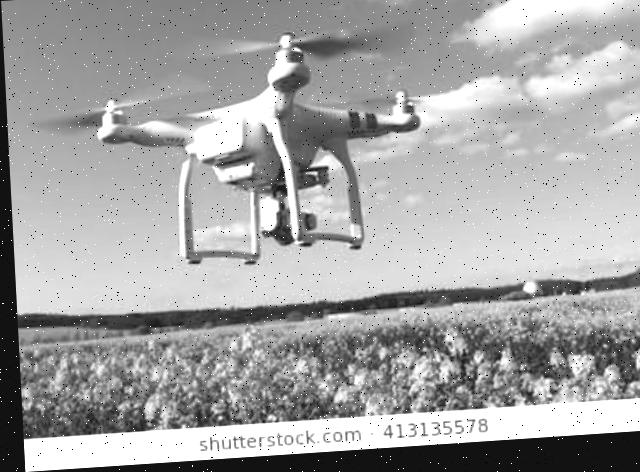drone: (19, 0, 466, 308)
